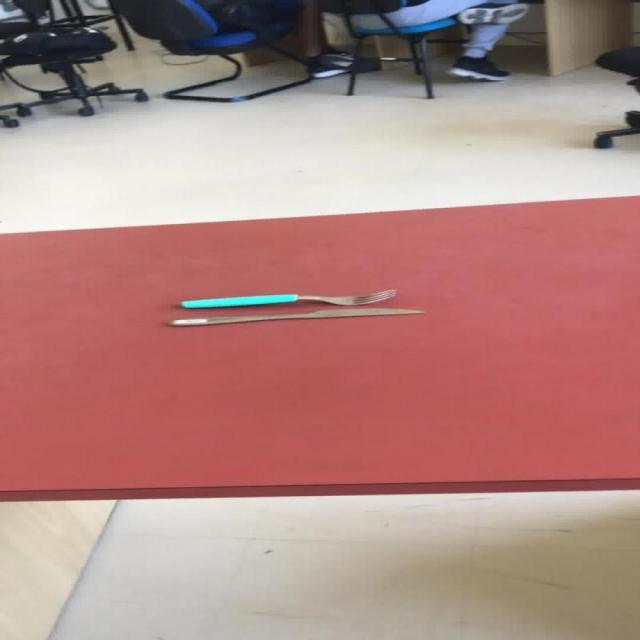Fork: (177, 288, 397, 309)
Knife: (165, 288, 425, 327), (166, 307, 425, 326)
